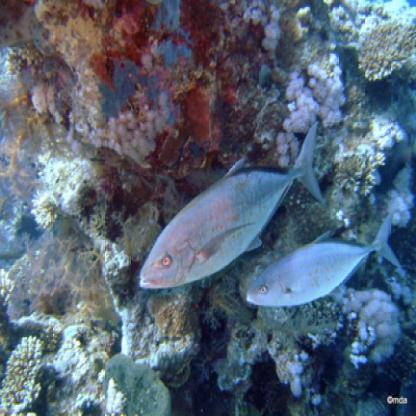jack: (136, 123, 331, 292), (245, 202, 411, 306)
